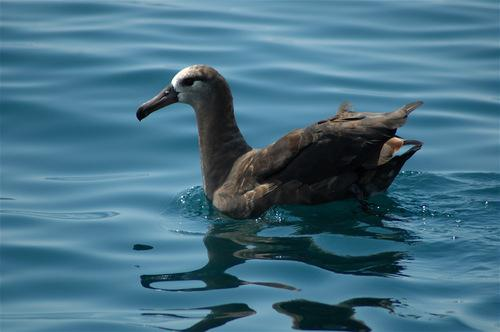001.Black_footed_Albatross: (137, 65, 423, 220)
